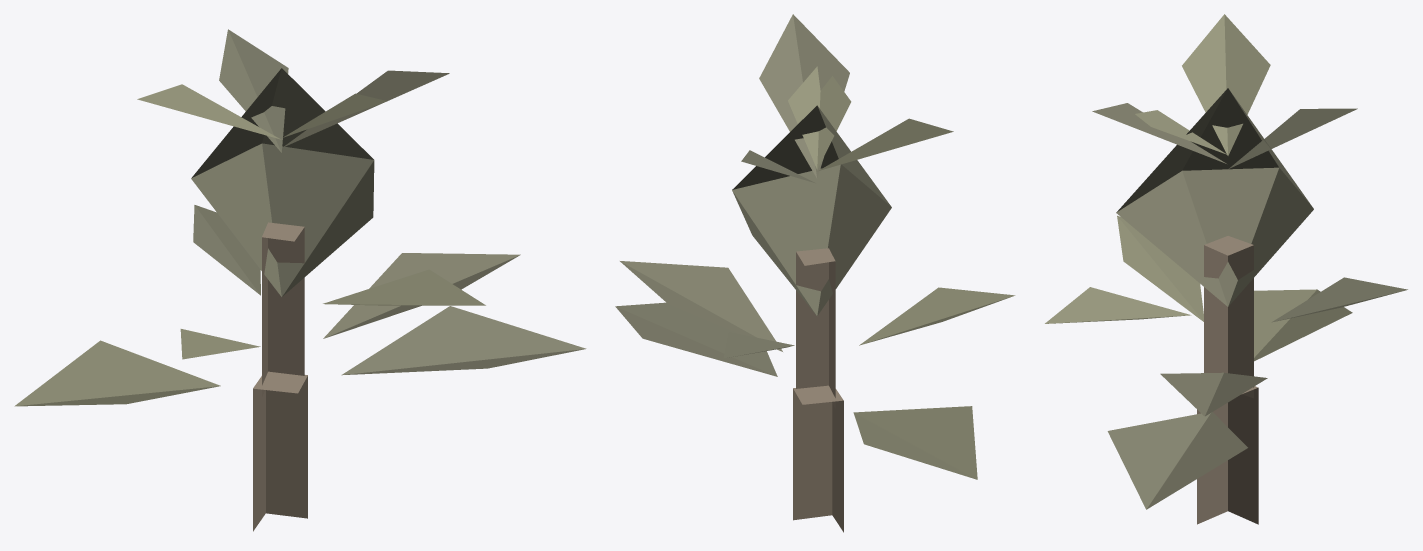
The model's file is shu.luoye@seedling__winter.glb.
The picture shows the model from 3 angles, left to right: view 1: azimuth 30°, elevation 25°; view 2: azimuth 150°, elevation 25°; view 3: azimuth 270°, elevation 25°; orthographic projection. The views are drawn at different scales.
Visible parts, largest first — view 1: shu.luoye@seedling__winter; view 2: shu.luoye@seedling__winter; view 3: shu.luoye@seedling__winter.
Boxes of the visible parts, box(x1,y1,x2,y2) form: shu.luoye@seedling__winter: box(14, 29, 586, 531); shu.luoye@seedling__winter: box(615, 14, 1015, 532); shu.luoye@seedling__winter: box(1045, 14, 1407, 524).
Bounding box in the file's own units: 1.76 × 1.74 × 1.2.
